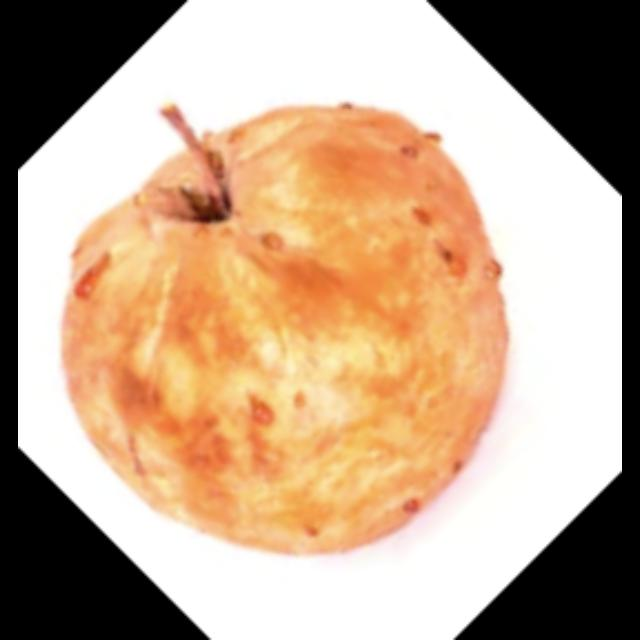Apel Tidak Segar: (44, 25, 564, 621)
